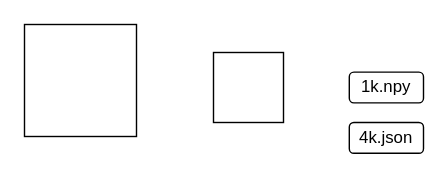
The diagram is 448 pixels wide and 178 high, and some of its shapes have lost their labels. Each missing label, with the box of its shape:
1k img: (212, 51, 284, 122)
4k img: (23, 23, 136, 136)
